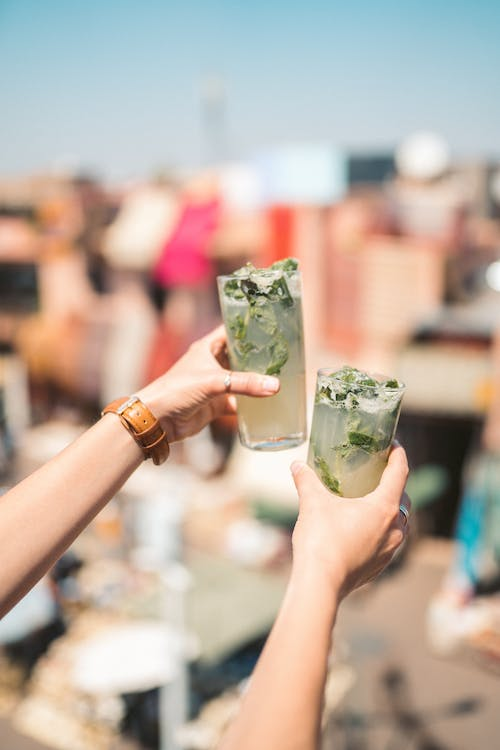alcohol: (214, 267, 309, 453), (304, 364, 408, 498)
